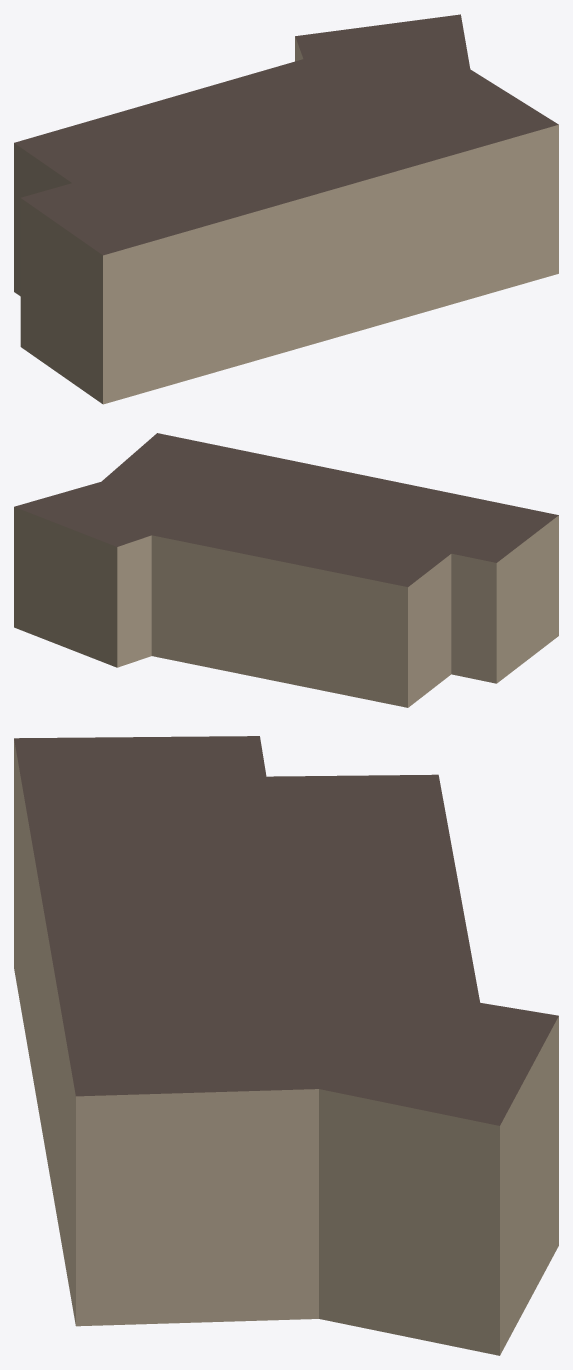
The picture shows the model from 3 angles, top to bottom: view 1: azimuth 30°, elevation 25°; view 2: azimuth 150°, elevation 25°; view 3: azimuth 270°, elevation 25°; orthographic projection. The views are drawn at different scales.
Visible parts, largest first — view 1: HP-w776801041; view 2: HP-w776801041; view 3: HP-w776801041.
Boxes of the visible parts, x1,y1,x2,y2 form: HP-w776801041: (14, 14, 558, 404); HP-w776801041: (14, 433, 558, 707); HP-w776801041: (14, 736, 558, 1355).
Bounding box in the file's own units: 32.74 × 9 × 19.34.
